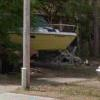Boat: (4, 18, 77, 60)
